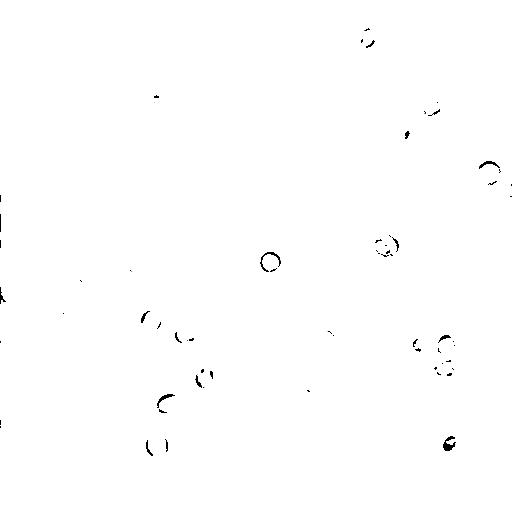micro-algae: (134, 414, 270, 511), (1, 328, 30, 393), (439, 347, 476, 385), (31, 21, 70, 56), (71, 258, 103, 291), (55, 304, 88, 332), (1, 203, 26, 239), (313, 327, 339, 359), (473, 160, 502, 188), (133, 138, 159, 168), (139, 305, 164, 336), (373, 232, 401, 259), (17, 119, 41, 149), (174, 323, 201, 347), (155, 392, 183, 415), (145, 433, 170, 458), (259, 250, 284, 274), (193, 364, 216, 390), (421, 94, 444, 118), (411, 331, 433, 354), (358, 26, 379, 50), (1, 283, 23, 305), (392, 120, 413, 143), (435, 332, 456, 355), (128, 254, 148, 277), (432, 358, 455, 377), (441, 435, 460, 453), (294, 386, 314, 402), (143, 0, 165, 6), (506, 180, 512, 198)
